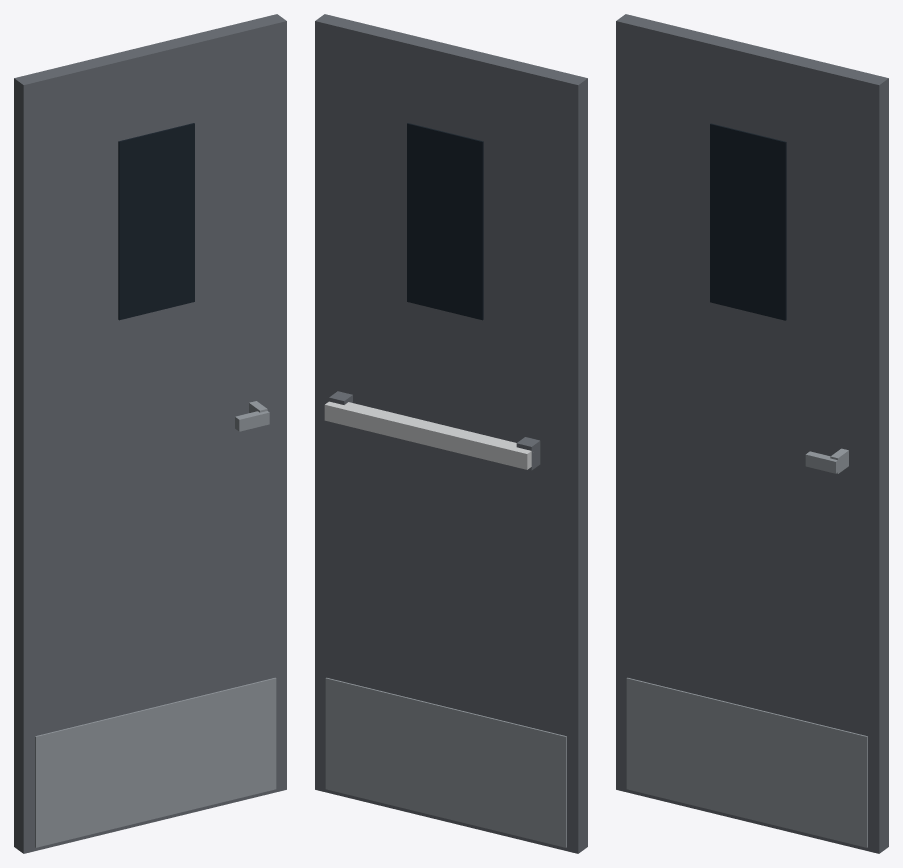
The model's file is door_steel.glb.
3 views of the same model, side by side, from view 1: azimuth 30°, elevation 25°; view 2: azimuth 150°, elevation 25°; view 3: azimuth 330°, elevation 25° (orthographic).
Parts seen in each view (by area): view 1: door_steel; view 2: door_steel; view 3: door_steel.
Boxes of the visible parts, x1,y1,x2,y2 form: door_steel: (14,14,286,853); door_steel: (315,14,587,853); door_steel: (616,14,888,853).
Size of the model in its own units: 0.695 by 1.94 by 0.164.
Materials: 1 (1 with a texture image).
